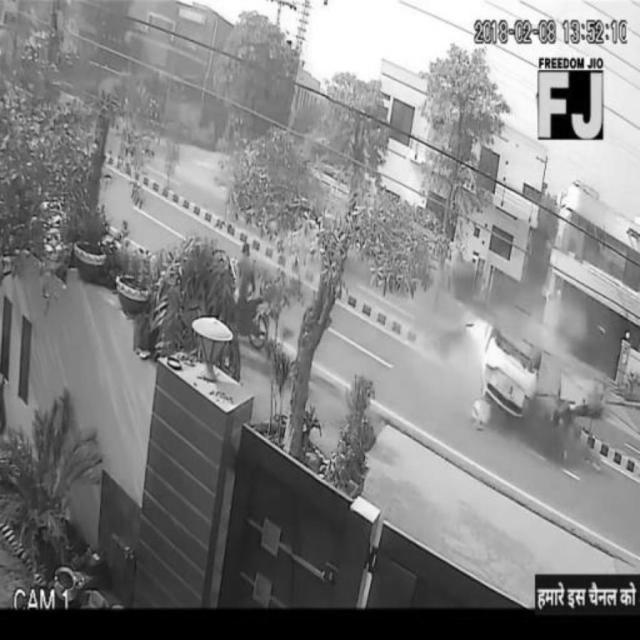accident: (461, 314, 591, 440)
